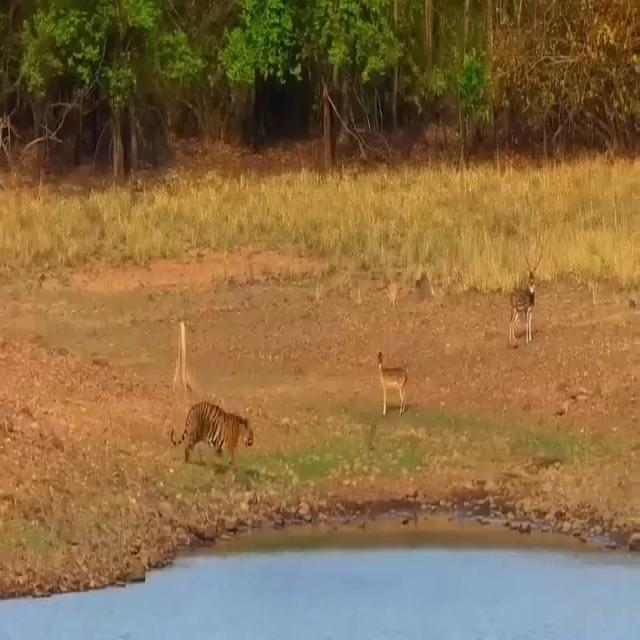tiger: (170, 400, 254, 467)
